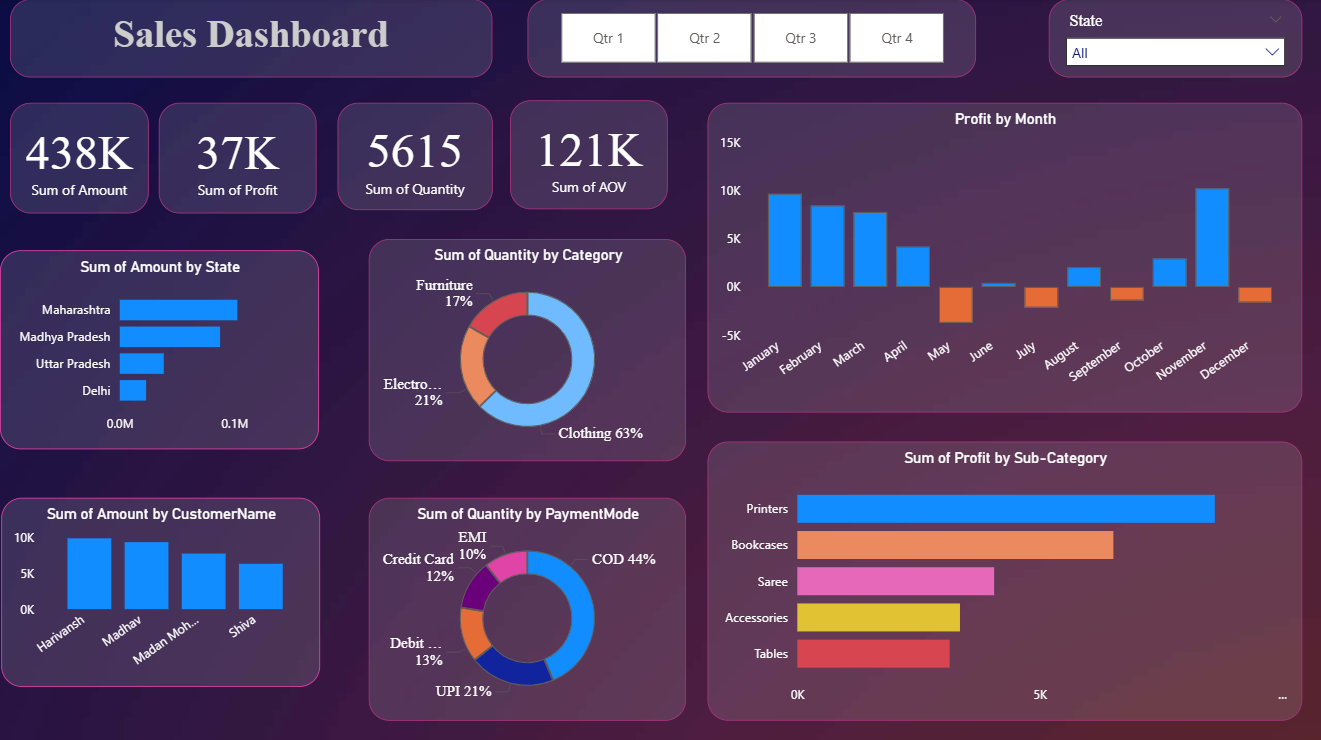

This screenshot's page, from the dashboard's own definition file:
{"tool":"powerbi","page":{"name":"Page 1","canvas":[1280,720],"ordinal":0},"visuals":[{"type":"textbox","box":[10,0,467.1,75.7],"z":0},{"type":"columnChart","title":"Profit by Month","fields":{"Category":["Orders.Order Date.Variation.Date Hierarchy.Month"],"Y":["Details.Profit"]},"box":[685.7,100,575.7,300],"z":1000},{"type":"barChart","fields":{"Category":["Details.Sub-Category"],"Y":["Details.Profit"]},"box":[685.7,428.6,575.7,270],"z":2000},{"type":"donutChart","fields":{"Category":["Details.Category"],"Y":["Details.Quantity"]},"box":[357.1,232.4,307.5,215.5],"z":3000},{"type":"donutChart","fields":{"Y":["Details.Quantity"],"Category":["Details.PaymentMode"]},"box":[357.1,482.9,307.1,215.7],"z":4000},{"type":"card","fields":{"Values":["Details.Amount"]},"box":[10,100,134.3,107.1],"z":5000},{"type":"card","fields":{"Values":["Details.Profit"]},"box":[154.3,100,152.9,107.1],"z":6000},{"type":"card","fields":{"Values":["Details.Quantity"]},"box":[327.1,100,150,104.3],"z":7000},{"type":"card","fields":{"Values":["Details.AOV"]},"box":[494.3,98.6,152.9,105.7],"z":8000},{"type":"barChart","fields":{"Category":["Orders.State"],"Y":["Details.Amount"]},"box":[0,242.9,308.6,192.9],"z":9000},{"type":"columnChart","fields":{"Y":["Details.Amount"],"Category":["Orders.CustomerName"]},"box":[1.4,482.9,308.6,182.9],"z":10000},{"type":"slicer","fields":{"Values":["Orders.Order Date.Variation.Date Hierarchy.Quarter"]},"box":[511.4,0,434.3,75.7],"z":11000},{"type":"slicer","fields":{"Values":["Orders.State"]},"box":[1015.7,0,245.7,75.7],"z":12000}]}

Visuals, with their boxes in screenshot pixels (x1, y1, x2, y2), scaled from the page's 1280x720 canvas onto the 1321x740 screenshot:
textbox: [10, 0, 492, 78]
"Profit by Month" columnChart: [708, 103, 1302, 411]
barChart - Details.Sub-Category x Details.Profit: [708, 441, 1302, 718]
donutChart - Details.Category x Details.Quantity: [369, 239, 686, 460]
donutChart - Details.Quantity x Details.PaymentMode: [369, 496, 685, 718]
card - Details.Amount: [10, 103, 149, 213]
card - Details.Profit: [159, 103, 317, 213]
card - Details.Quantity: [338, 103, 492, 210]
card - Details.AOV: [510, 101, 668, 210]
barChart - Orders.State x Details.Amount: [0, 250, 318, 448]
columnChart - Details.Amount x Orders.CustomerName: [1, 496, 320, 684]
slicer - Orders.Order Date.Variation.Date Hierarchy.Quarter: [528, 0, 976, 78]
slicer - Orders.State: [1048, 0, 1302, 78]
